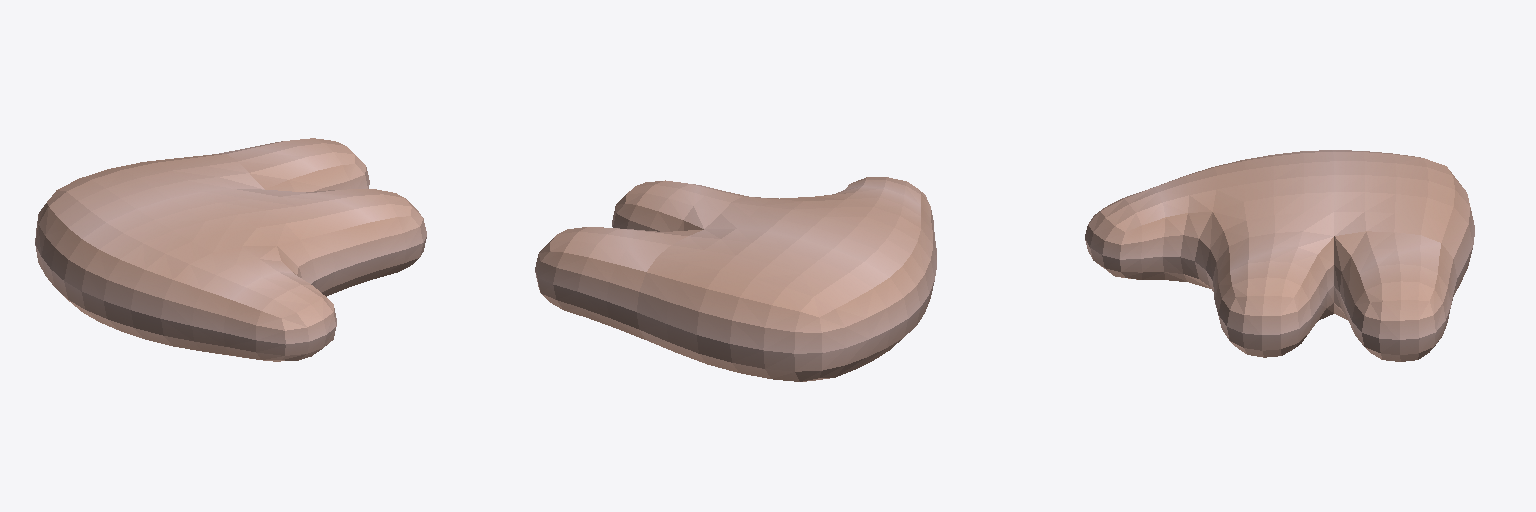
3 views of the same model, side by side, from view 1: azimuth 30°, elevation 25°; view 2: azimuth 150°, elevation 25°; view 3: azimuth 270°, elevation 25° (orthographic).
Visible parts, largest first — view 1: LeftHand; view 2: LeftHand; view 3: LeftHand.
Boxes of the visible parts, x1,y1,x2,y2 form: LeftHand: [35, 138, 426, 361]; LeftHand: [535, 177, 936, 381]; LeftHand: [1085, 150, 1474, 361].
Bounding box in the file's own units: 10.95 × 3.28 × 11.15.
1 materials, 1 textured.